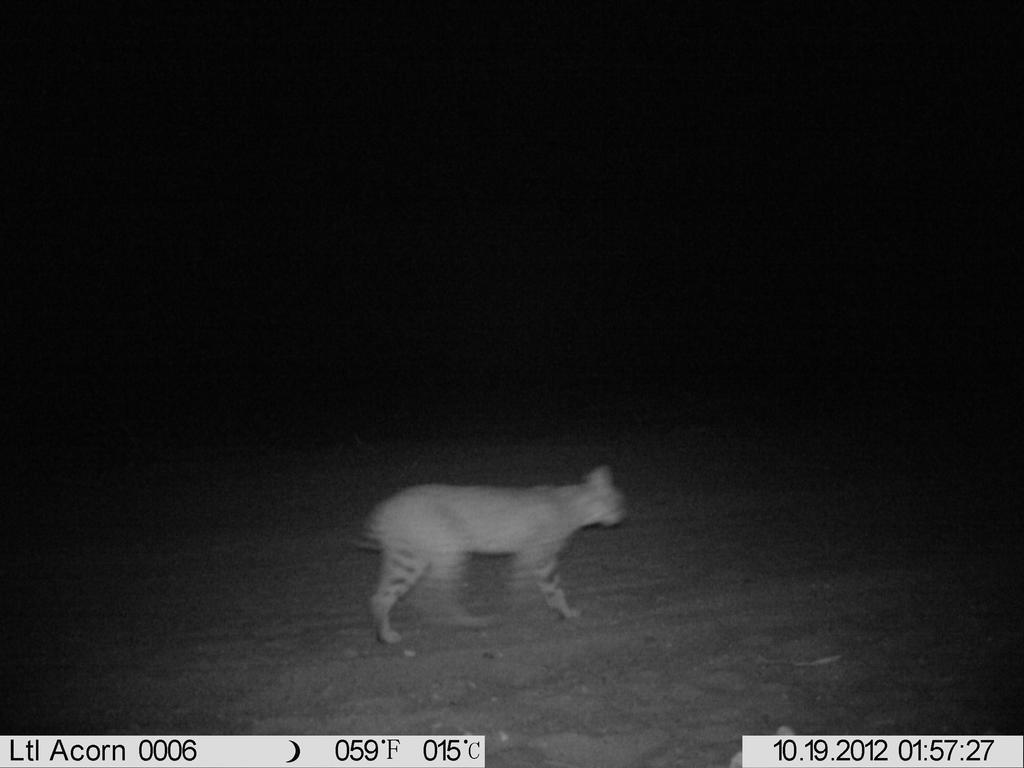bobcat: (343, 449, 655, 656)
